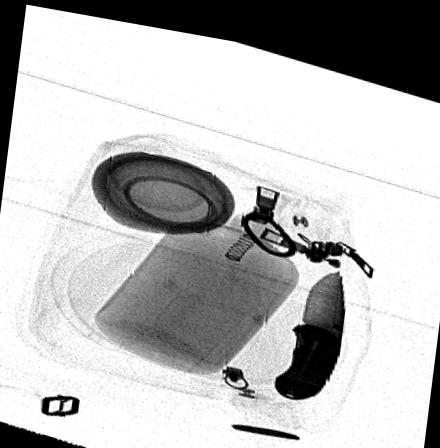Knife: (271, 257, 346, 391)
